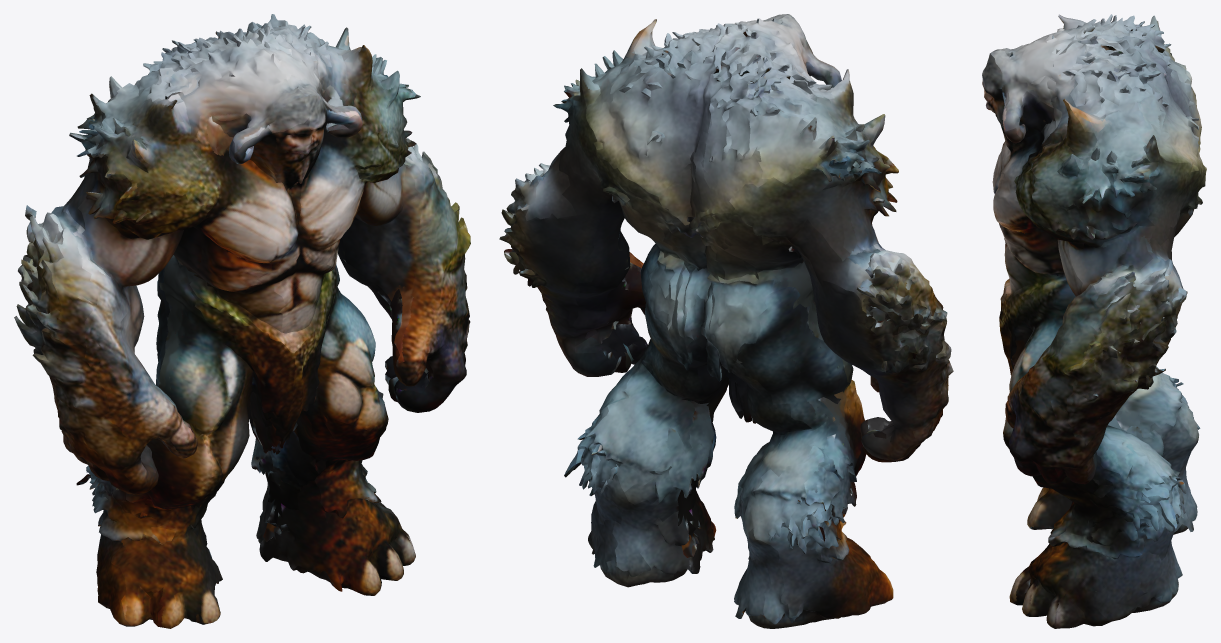
File: behemoth.glb
The picture shows the model from 3 angles, left to right: view 1: azimuth 30°, elevation 25°; view 2: azimuth 150°, elevation 25°; view 3: azimuth 270°, elevation 25°; orthographic projection. The views are drawn at different scales.
Visible parts, largest first — view 1: tmp1afng9ch.ply; view 2: tmp1afng9ch.ply; view 3: tmp1afng9ch.ply.
Boxes of the visible parts, left/top/right/bottom form: tmp1afng9ch.ply: left=14, top=14, right=470, bottom=628; tmp1afng9ch.ply: left=499, top=14, right=953, bottom=628; tmp1afng9ch.ply: left=982, top=14, right=1206, bottom=628.
Size of the model in its own units: 1.61 by 1.99 by 0.754.
Materials: 1 (1 with a texture image).
